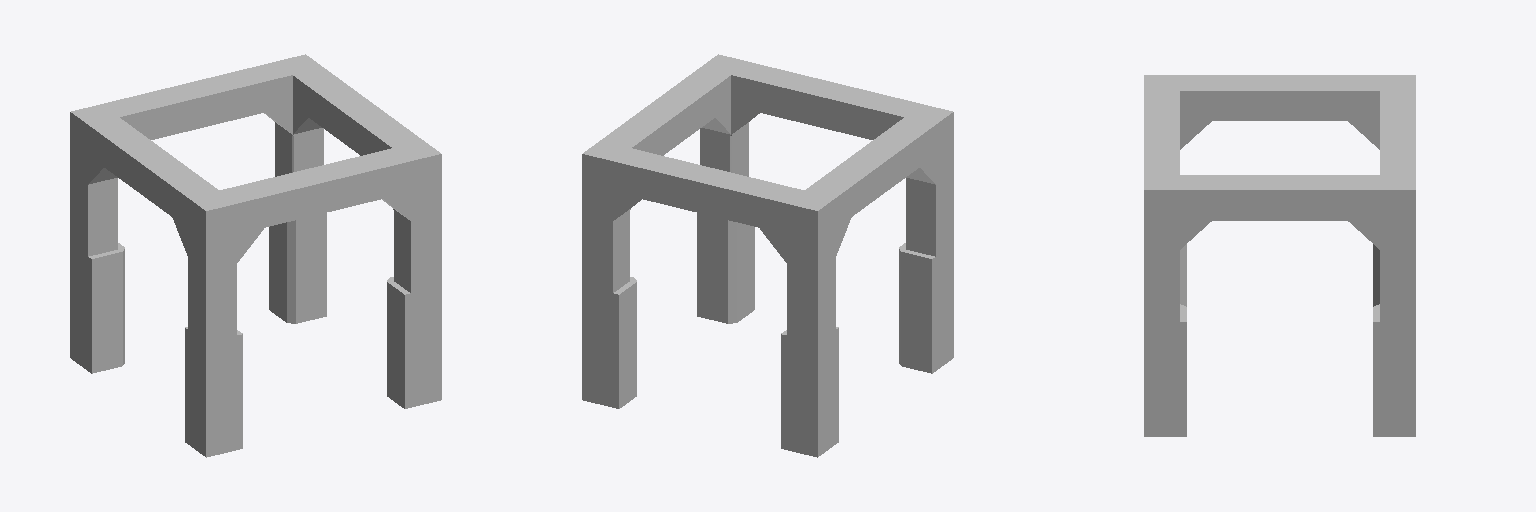
File: spaceInterior_063.obj
The picture shows the model from 3 angles: view 1: azimuth 30°, elevation 25°; view 2: azimuth 150°, elevation 25°; view 3: azimuth 270°, elevation 25°; orthographic projection.
Parts seen in each view (by area): view 1: Mesh1 Group1 Model; view 2: Mesh1 Group1 Model; view 3: Mesh1 Group1 Model.
Boxes of the visible parts, <box> form: Mesh1 Group1 Model: <box>70,54,441,457</box>; Mesh1 Group1 Model: <box>582,54,953,457</box>; Mesh1 Group1 Model: <box>1144,75,1415,436</box>.
Bounding box in the file's own units: 1 × 1 × 1.